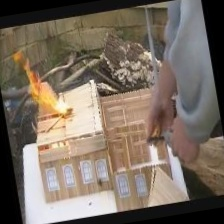fire: (16, 43, 73, 123)
